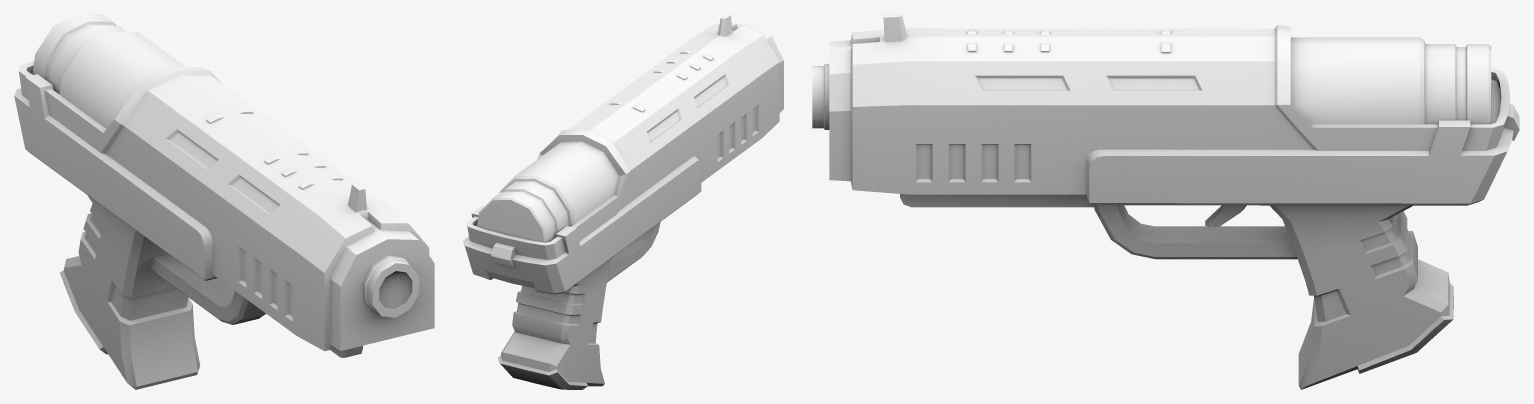
File: Gun.glb
The picture shows the model from 3 angles, left to right: view 1: azimuth 30°, elevation 25°; view 2: azimuth 150°, elevation 25°; view 3: azimuth 270°, elevation 25°; orthographic projection. The views are drawn at different scales.
Visible parts, largest first — view 1: Gun; view 2: Gun; view 3: Gun.
Part boxes in pixels (<box>): Gun: <box>14,14,434,389</box>; Gun: <box>463,14,783,389</box>; Gun: <box>812,14,1519,389</box>.
Size of the model in its own units: 0.2245 by 0.5848 by 1.04.
Materials: 1 (1 with a texture image).
